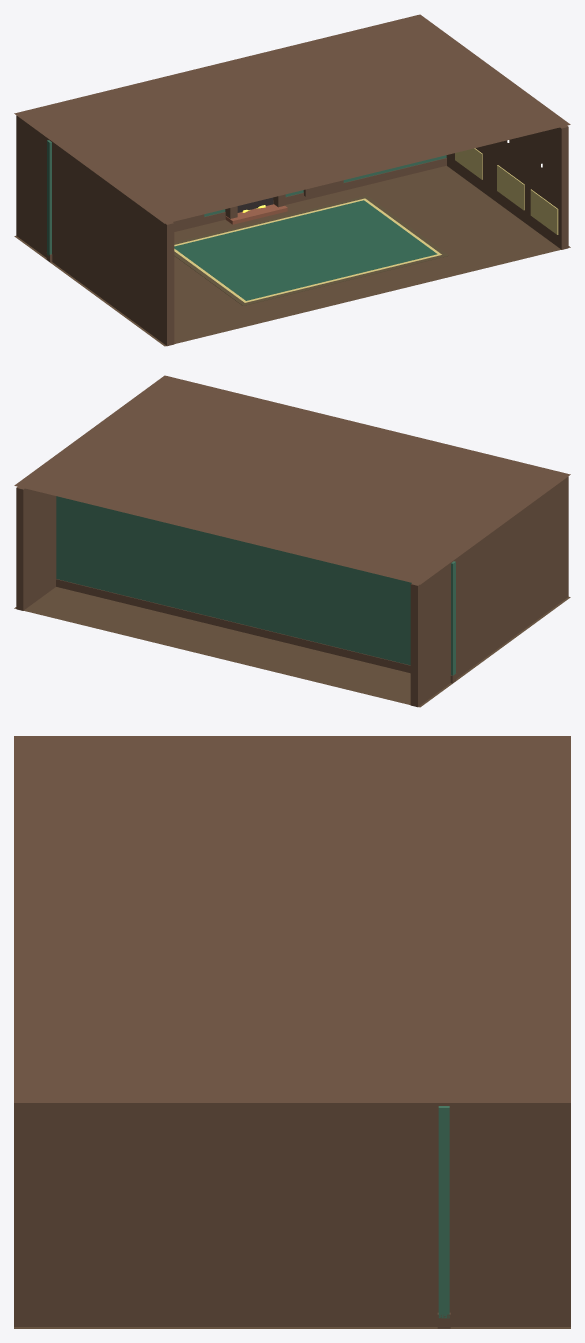
Rendered from room_classic_club.glb.
3 renders of one model, top to bottom at view 1: azimuth 30°, elevation 25°; view 2: azimuth 150°, elevation 25°; view 3: azimuth 270°, elevation 25°, orthographic. The views are drawn at different scales.
Visible parts, largest first — view 1: CeilingPlane, Floor, SideWall_Left, ClubRug_Inner, SideWall_Right, ClubRug_Outer, Cube, Cube.001, Baseboard, ClubRug_Stripe, BackWall_Classic, SideBoiserieFrame_Right_-5.5 (+4 smaller); view 2: CeilingPlane, BackWall_Classic, SideWall_Left, Floor, SideWall_Right, Baseboard, Cube, Cube.001, Cube.002; view 3: CeilingPlane, SideWall_Right, Cube, Cube.001, Cube.002, BackWall_Classic, Floor.
Boxes of the visible parts, box(x1,y1,x2,y2) form: CeilingPlane: box(14, 14, 570, 223); Floor: box(14, 165, 570, 346); SideWall_Left: box(16, 115, 174, 346); ClubRug_Inner: box(174, 200, 437, 300); SideWall_Right: box(446, 126, 568, 249); ClubRug_Outer: box(174, 195, 448, 305); Cube: box(145, 109, 548, 208); Cube.001: box(118, 89, 521, 189); Baseboard: box(46, 158, 446, 262); ClubRug_Stripe: box(174, 198, 441, 302); BackWall_Classic: box(47, 140, 446, 256); SideBoiserieFrame_Right_-5.5: box(530, 189, 558, 234); CeilingPlane: box(14, 375, 570, 584); BackWall_Classic: box(56, 496, 455, 675); SideWall_Left: box(410, 476, 568, 707); Floor: box(14, 587, 570, 707); SideWall_Right: box(16, 487, 56, 610); Baseboard: box(56, 579, 456, 683); Cube: box(145, 390, 548, 490); Cube.001: box(119, 410, 521, 508); Cube.002: box(88, 433, 488, 530); CeilingPlane: box(14, 736, 570, 1102); SideWall_Right: box(14, 1102, 570, 1326); Cube: box(85, 738, 97, 1099); Cube.001: box(184, 738, 196, 1099); Cube.002: box(295, 740, 307, 1099); BackWall_Classic: box(438, 1106, 449, 1318); Floor: box(14, 1327, 570, 1328).
Size of the model in its own units: 28 by 8.1 by 18.
